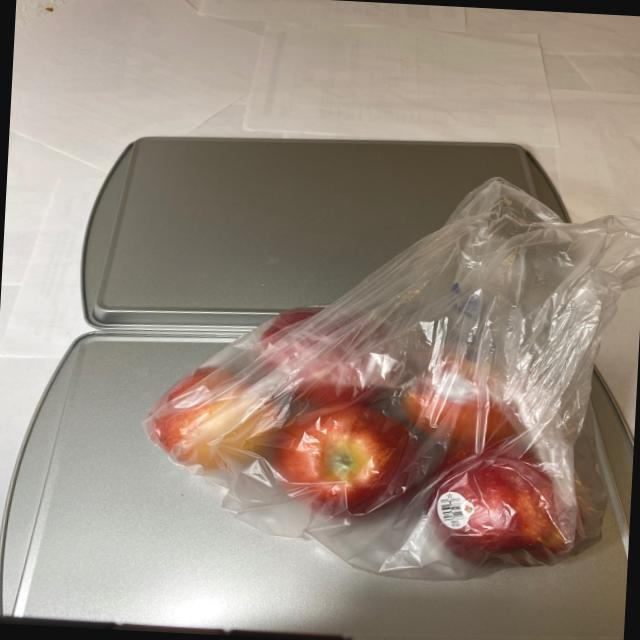apple: (148, 265, 606, 576)
